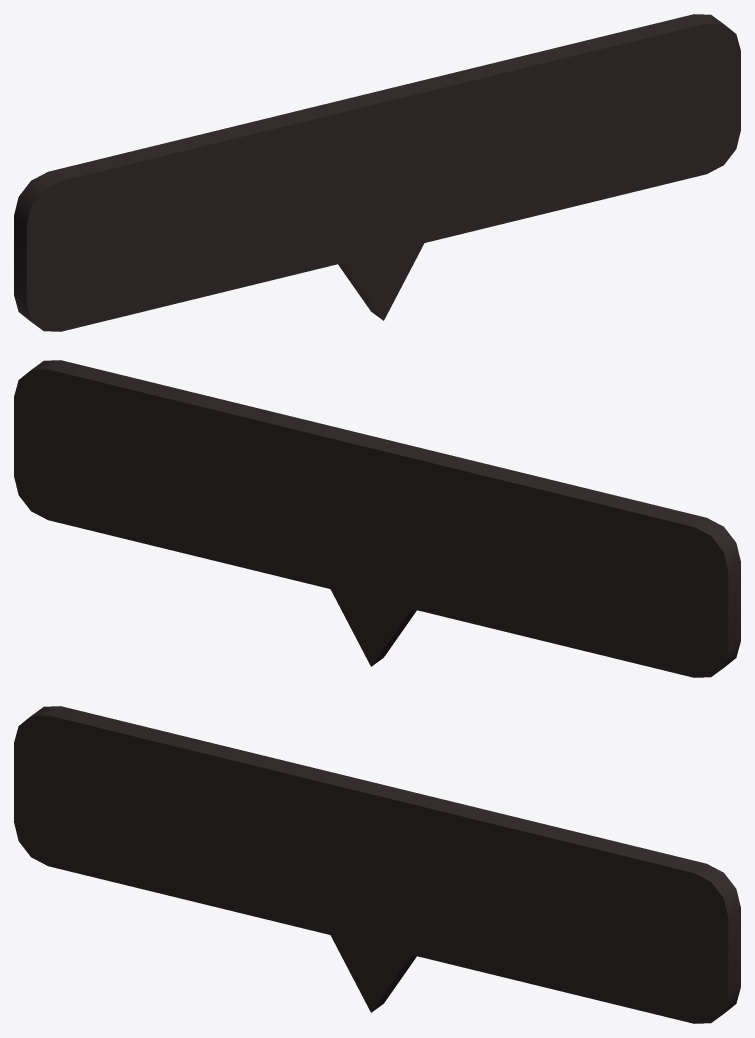
The model's file is Message.glb.
3 renders of one model, top to bottom at view 1: azimuth 30°, elevation 25°; view 2: azimuth 150°, elevation 25°; view 3: azimuth 330°, elevation 25°, orthographic.
Parts seen in each view (by area): view 1: Message; view 2: Message; view 3: Message.
Boxes of the visible parts, bbox=[...] form: Message: bbox=[14, 14, 740, 331]; Message: bbox=[14, 360, 740, 677]; Message: bbox=[14, 706, 740, 1023].
Size of the model in its own units: 1.18 by 0.3445 by 0.0363.
Materials: 1 (1 with a texture image).
